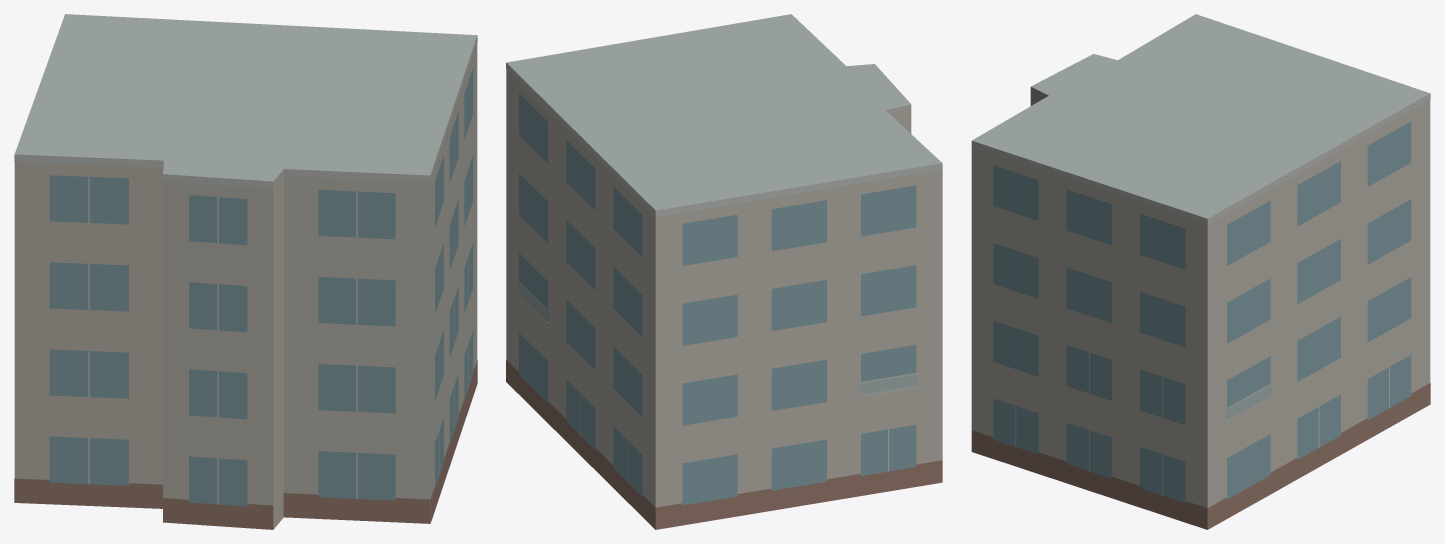
File: survey-upis-32641703.glb
3 views of the same model, side by side, from view 1: azimuth 30°, elevation 25°; view 2: azimuth 150°, elevation 25°; view 3: azimuth 270°, elevation 25° (orthographic). The views are drawn at different scales.
Visible parts, largest first — view 1: survey-upis-32641703.tmp; view 2: survey-upis-32641703.tmp; view 3: survey-upis-32641703.tmp.
Boxes of the visible parts, box(x1,y1,x2,y2) form: survey-upis-32641703.tmp: box(14, 14, 477, 529); survey-upis-32641703.tmp: box(506, 14, 942, 529); survey-upis-32641703.tmp: box(971, 14, 1430, 529).
Size of the model in its own units: 17.22 by 12.2 by 16.31.
